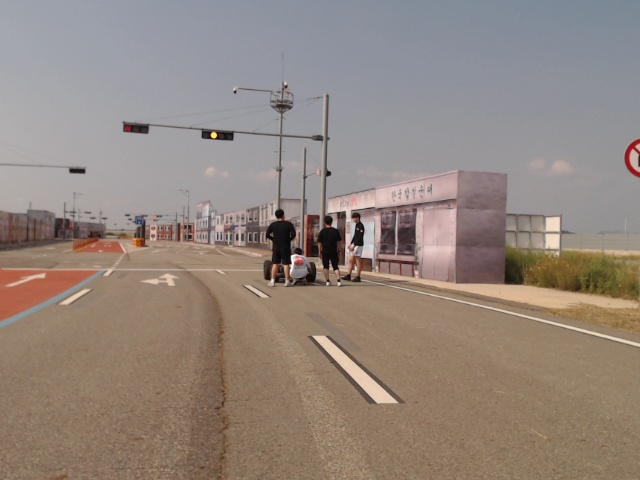orange_4: (200, 128, 236, 141)
